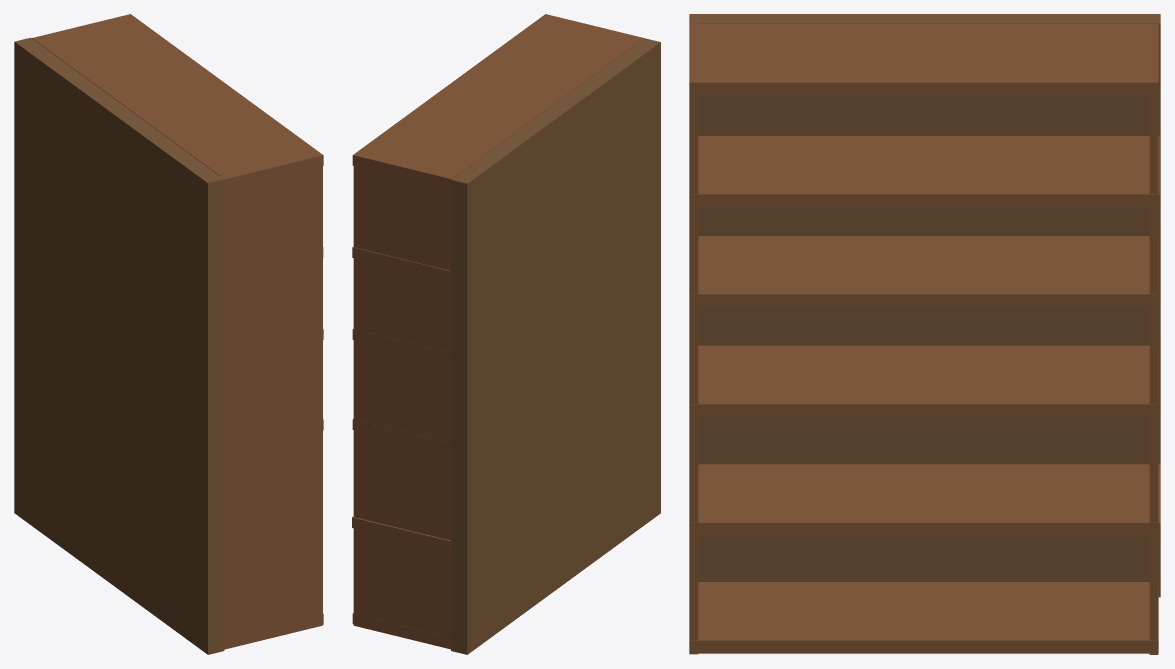
File: shelves.fbx
3 renders of one model, left to right at view 1: azimuth 30°, elevation 25°; view 2: azimuth 150°, elevation 25°; view 3: azimuth 270°, elevation 25°, orthographic. The views are drawn at different scales.
Visible parts, largest first — view 1: Cube, Cube.001, Cube.003; view 2: Cube, Cube.002, Cube.003, Cube.005, Cube.004, Cube.007, Cube.008, Cube.006; view 3: Cube, Cube.003, Cube.005, Cube.004, Cube.006, Cube.007, Cube.008, Cube.001, Cube.002.
Boxes of the visible parts, bbox=[...] form: Cube: bbox=[14, 37, 224, 654]; Cube.001: bbox=[221, 153, 322, 649]; Cube.003: bbox=[32, 14, 323, 184]; Cube: bbox=[451, 38, 660, 654]; Cube.002: bbox=[353, 166, 450, 649]; Cube.003: bbox=[352, 14, 639, 189]; Cube.005: bbox=[352, 516, 450, 551]; Cube.004: bbox=[352, 246, 450, 281]; Cube.007: bbox=[352, 613, 450, 647]; Cube.008: bbox=[352, 419, 450, 453]; Cube.006: bbox=[352, 329, 450, 363]; Cube: bbox=[689, 14, 1160, 597]; Cube.003: bbox=[689, 24, 1158, 95]; Cube.005: bbox=[691, 464, 1160, 535]; Cube.004: bbox=[690, 136, 1159, 207]; Cube.006: bbox=[689, 236, 1158, 307]; Cube.007: bbox=[689, 582, 1158, 653]; Cube.008: bbox=[689, 345, 1158, 416]; Cube.001: bbox=[689, 23, 698, 654]; Cube.002: bbox=[1149, 95, 1158, 654].
Bounding box in the file's own units: 349 × 1364 × 1015.
